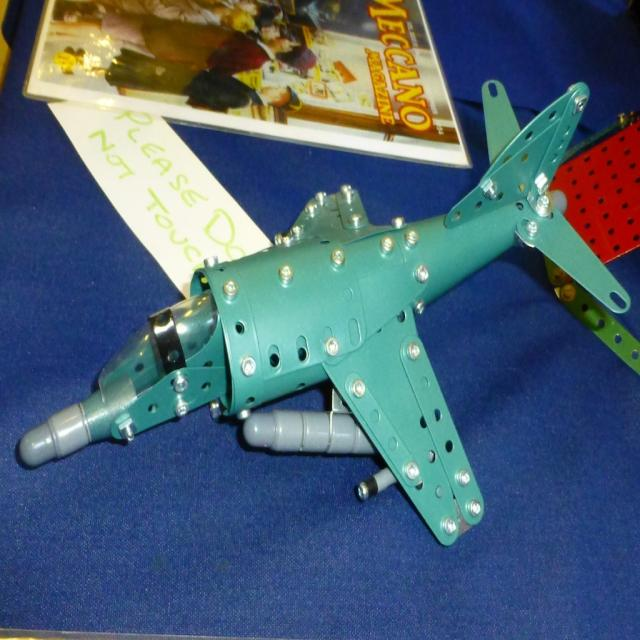Toy: (19, 72, 632, 550)
